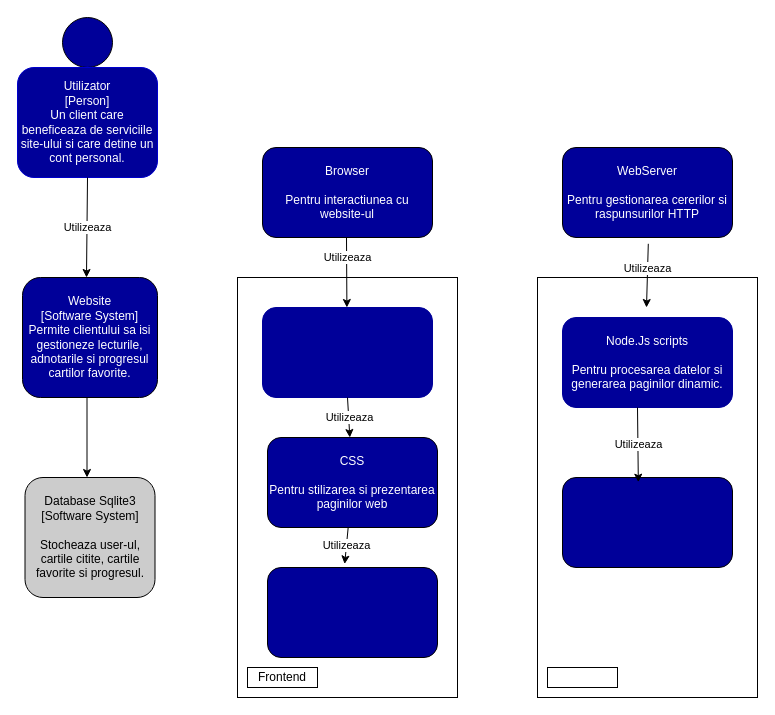
The diagram is 775 pixels wide and 715 high, and some of its shapes have lost their labels. Here are the shapes that lost their labels. From the top down, the box of each, then its label:
(262, 306, 432, 398): HTML Pentru structura si prezentarea paginilor web
(562, 476, 732, 568): DataBase Connection Pentru stimularea paginilor web si a elementelor din ele.
(266, 566, 438, 658): JavaScript Pentru manipularea continutului.
(546, 666, 618, 688): Backend
